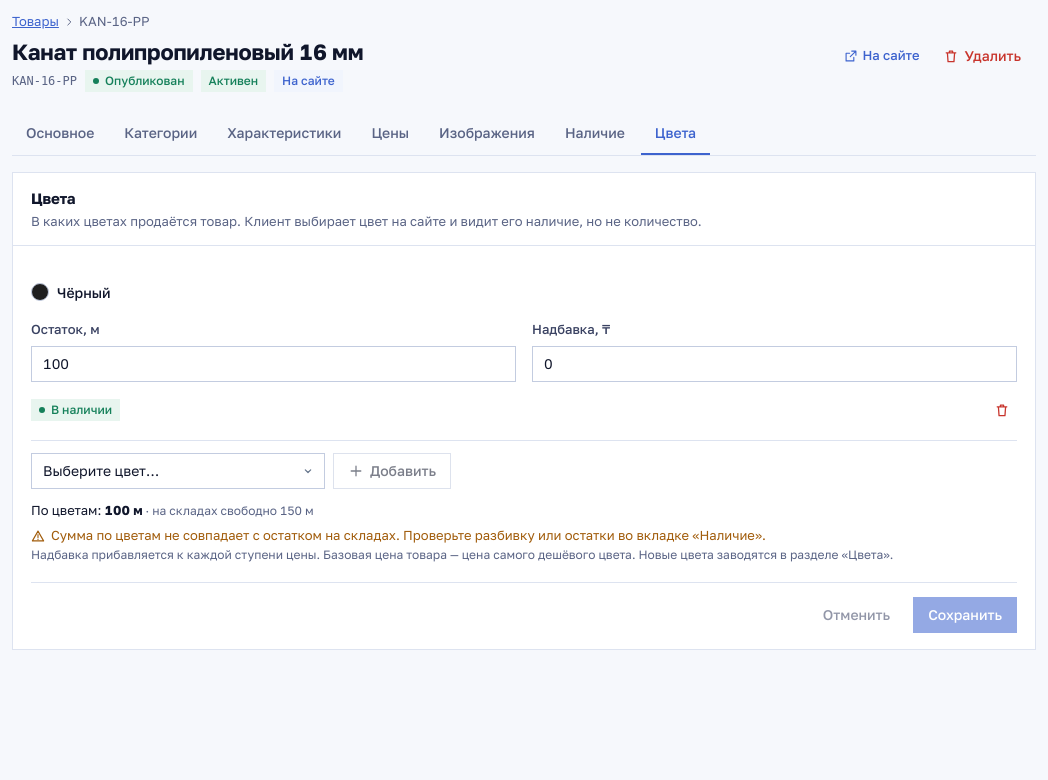
цвета товара › ошибка сохранения показывается сообщением
Expected: the heading "Канат полипропиленовый 16 мм" is shown, left=12, top=38, right=363, bottom=66
Replace the text in the field named "Остаток: Чёрный" with "90". click: (274, 364)
box: left=31, top=346, right=516, bottom=382
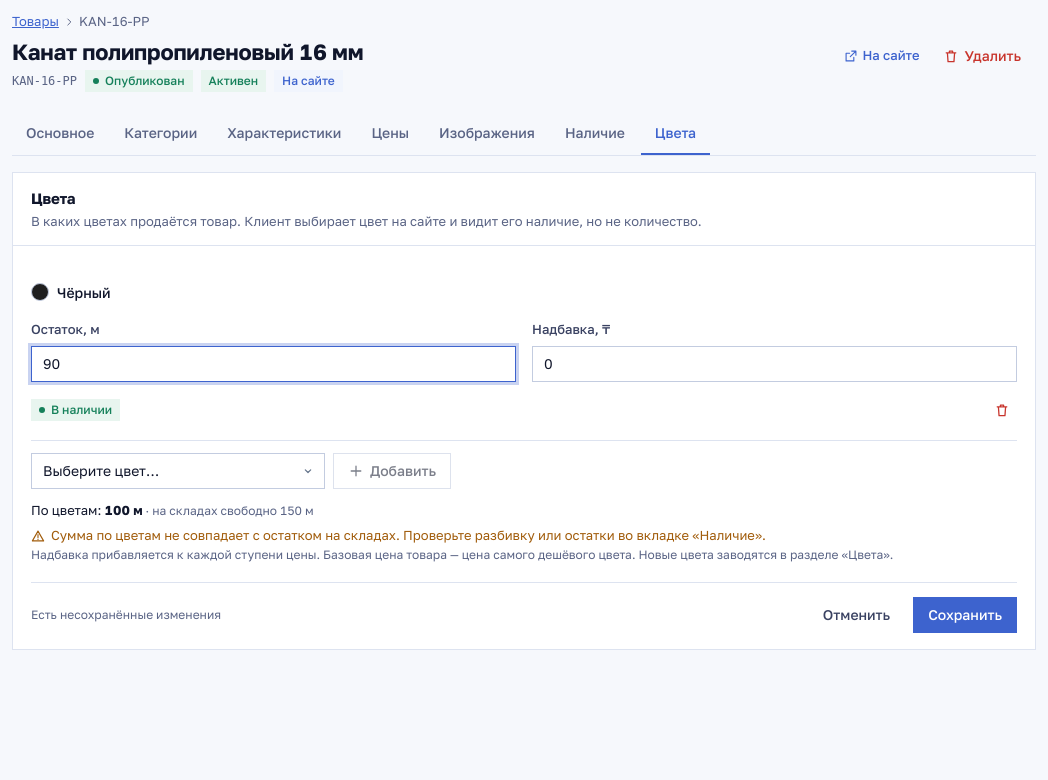
Click the button "Сохранить". click: (965, 615)
box: left=913, top=597, right=1017, bottom=633
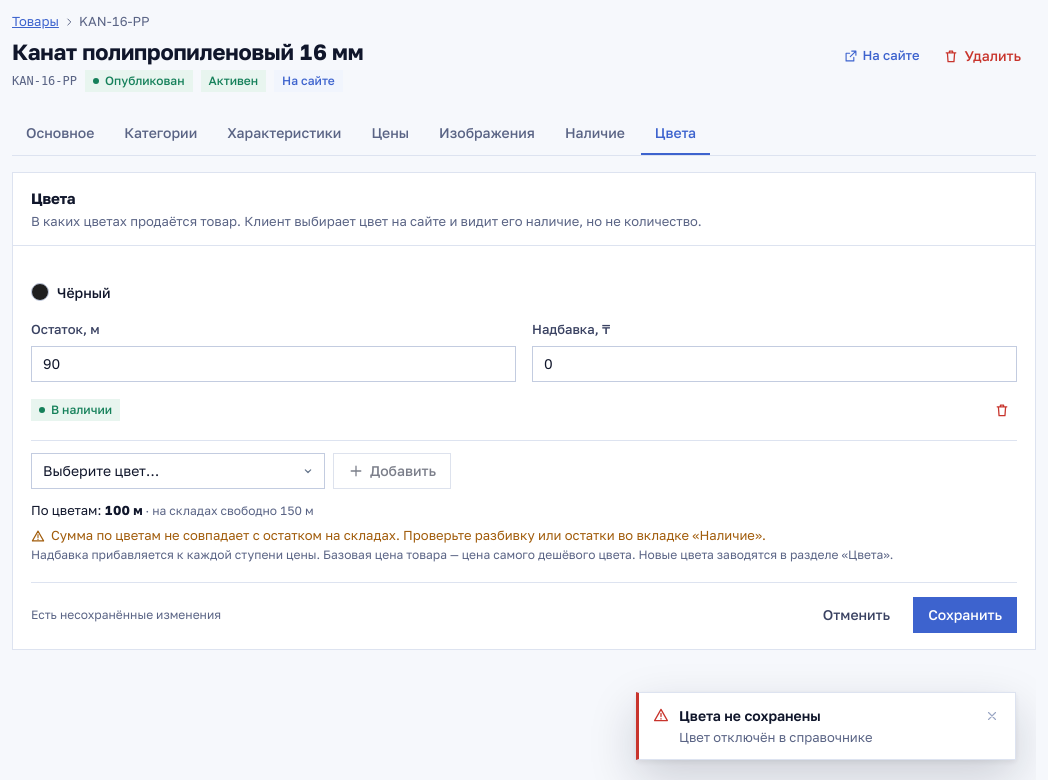
Expected: the text "Цвета не сохранены" is shown, left=679, top=706, right=821, bottom=724
